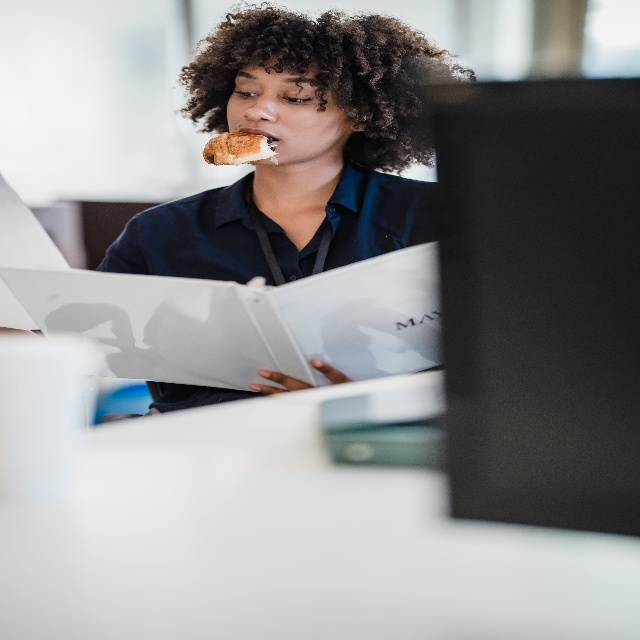Sin_guantes: (248, 359, 352, 395)
